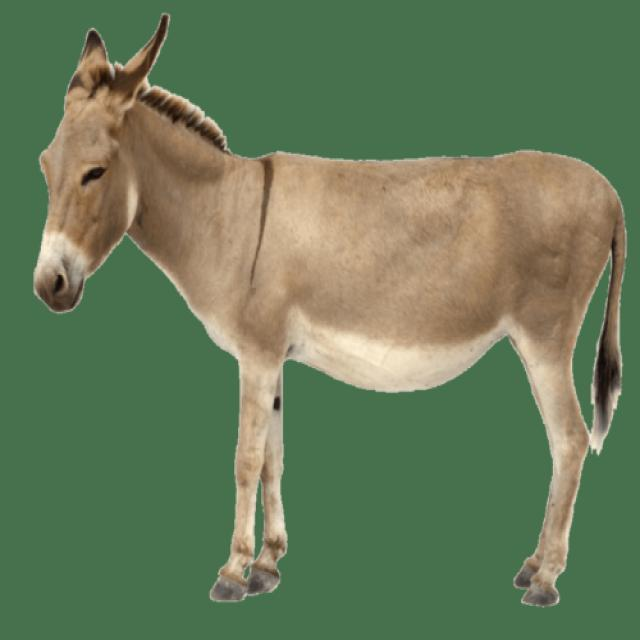Donkey: (37, 11, 626, 607)
